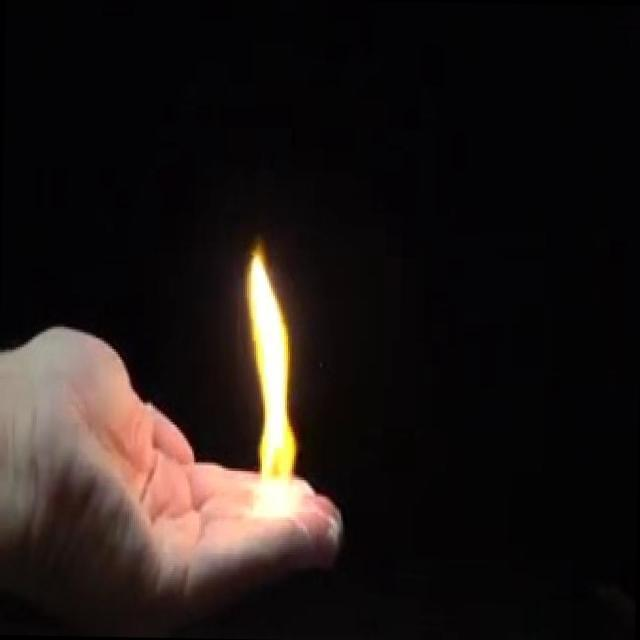Fire: (228, 231, 308, 528)
